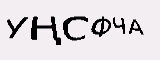А: (128, 15, 150, 39)
С: (61, 12, 87, 41)
У: (4, 15, 27, 40)
Ф: (90, 14, 113, 39)
Ч: (113, 14, 128, 34)
Ң: (27, 13, 64, 44)
